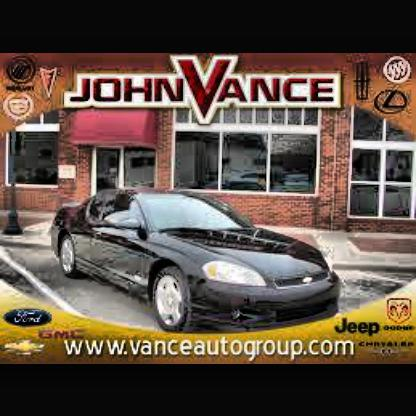Chevrolet Monte Carlo Coupe 2007: (47, 185, 345, 334)
